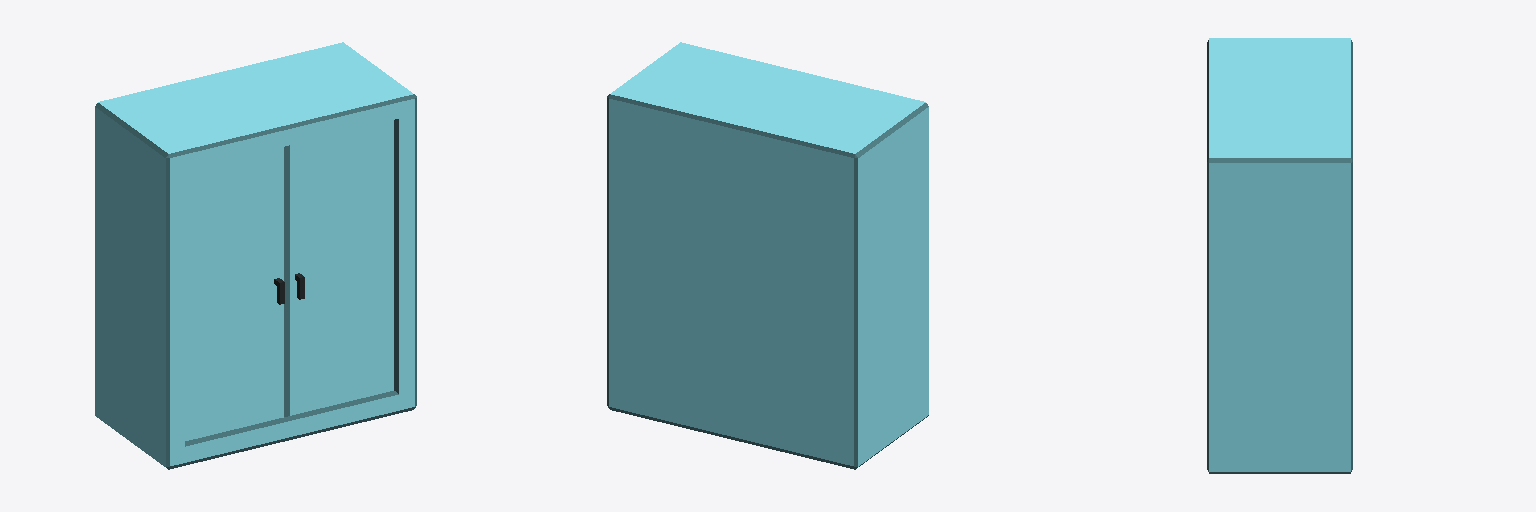
3 views of the same model, side by side, from view 1: azimuth 30°, elevation 25°; view 2: azimuth 150°, elevation 25°; view 3: azimuth 270°, elevation 25° (orthographic).
Visible parts, largest first — view 1: Alacena; view 2: Alacena; view 3: Alacena.
Part boxes in pixels (x1,y1,x2,y2): Alacena: (95,42,416,469); Alacena: (607,42,928,469); Alacena: (1207,38,1352,473).
Bounding box in the file's own units: 1 × 1.2 × 0.5.
Materials: 1 (1 with a texture image).